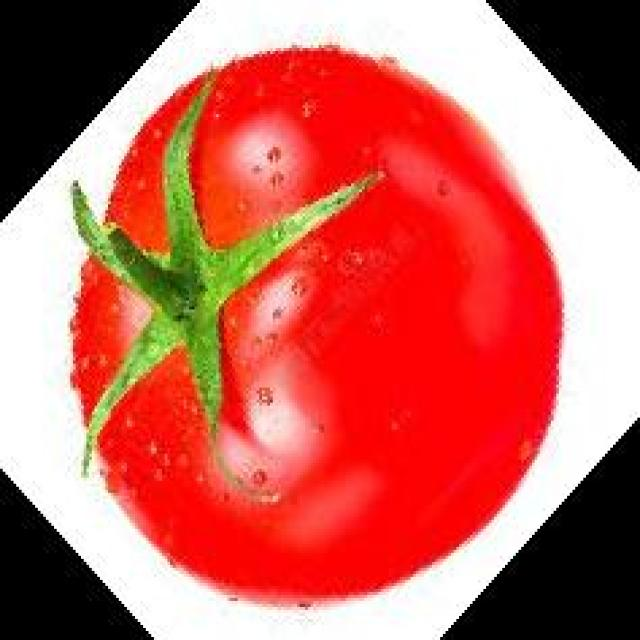Tomato: (73, 43, 563, 611)
